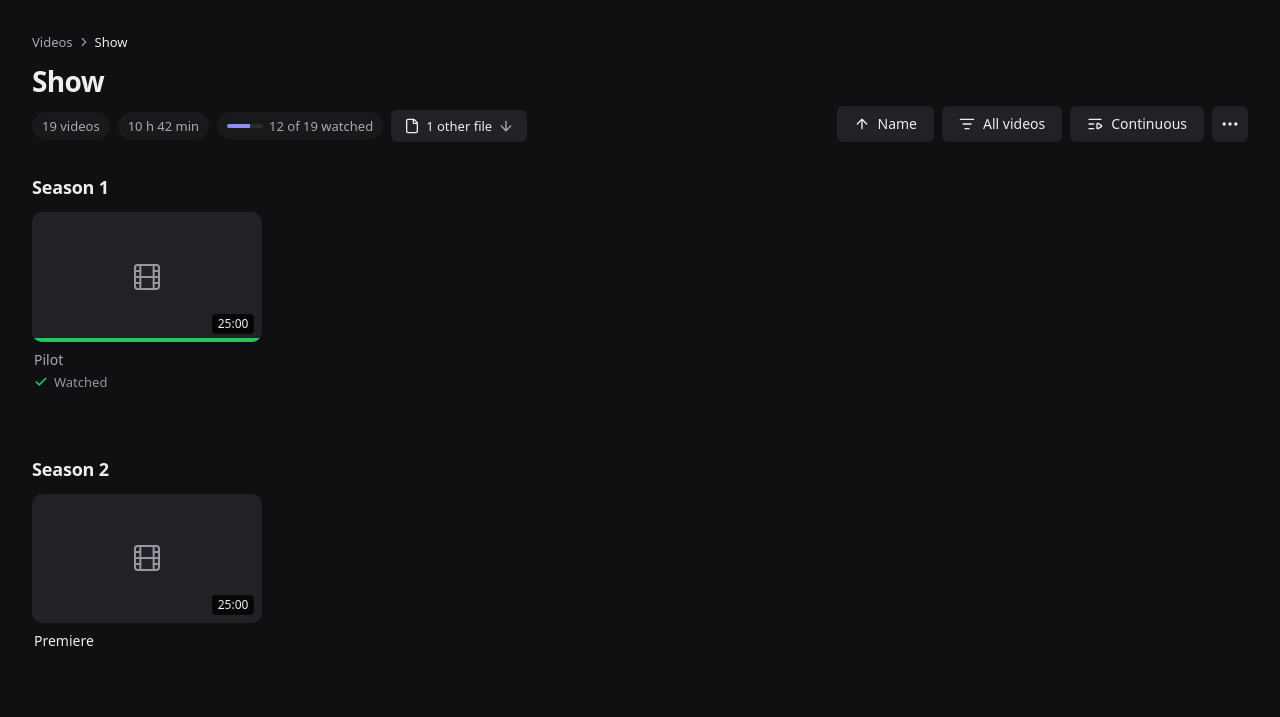
Test: FolderPage › hides the subfolder groups a filter empties in continuous view
Click the button with aria-label "Show all videos" at {"x": 1002, "y": 124}, box [942,106,1062,142]
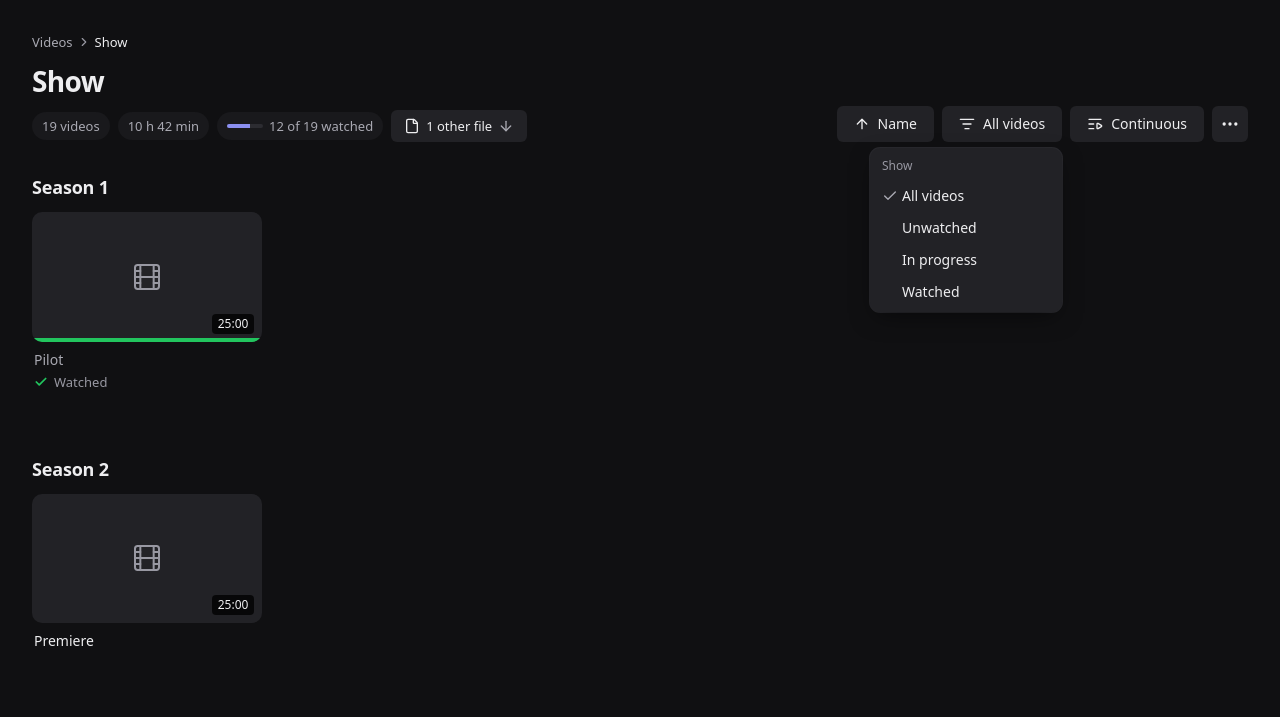
Click the menu item "Watched" at {"x": 931, "y": 292}, box [902,282,960,301]
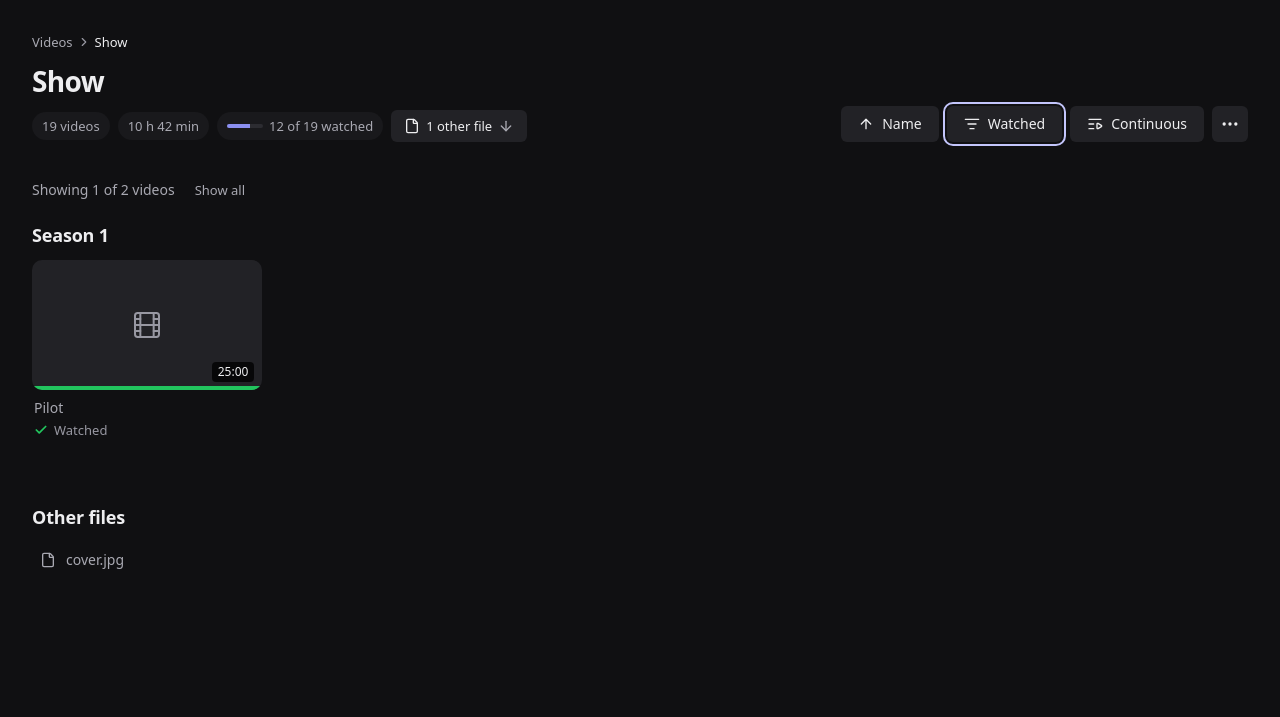
Expected: the link "Season 1" is shown, [32,222,109,248]
Expected: the link "Season 2" is gone
